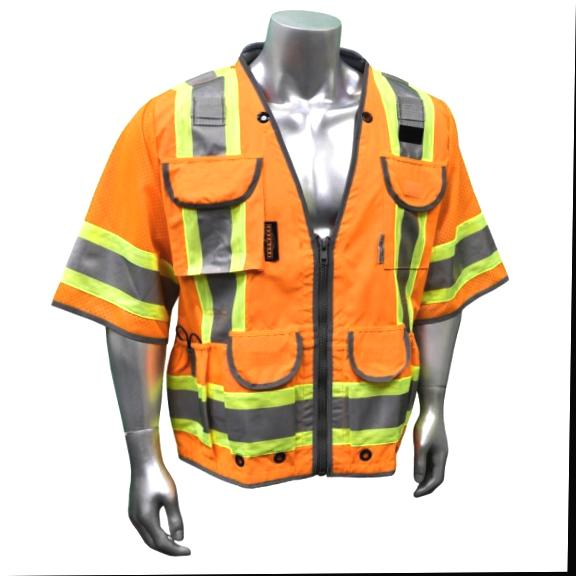safety_vest: (49, 34, 515, 491)
